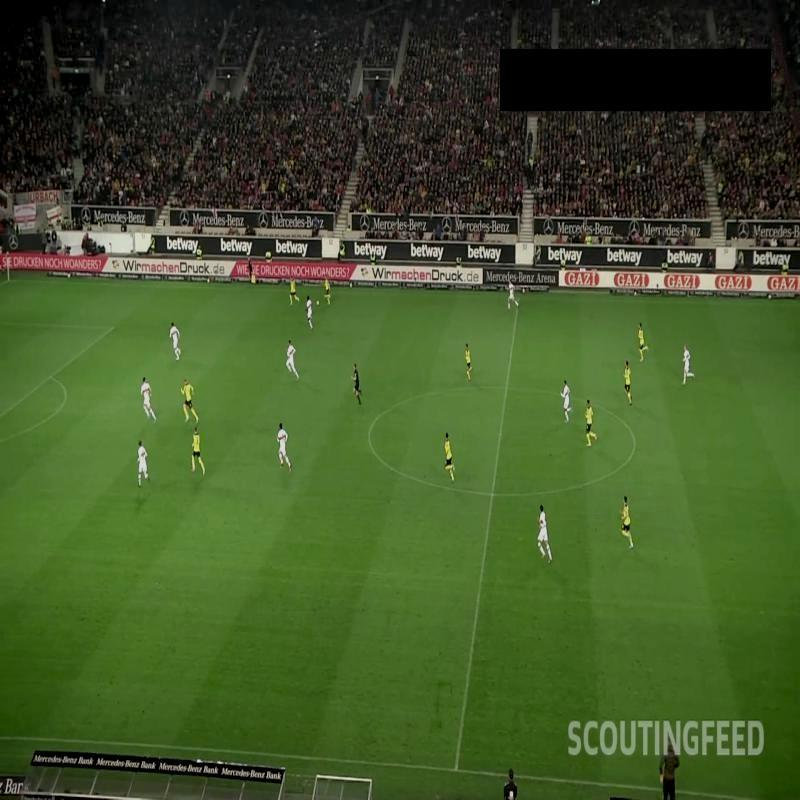1: (1, 274, 15, 288)
10: (44, 370, 58, 384)
13: (511, 291, 525, 305)
14: (498, 380, 516, 396)
15: (485, 486, 502, 503)
16: (446, 760, 465, 780)
9: (106, 320, 120, 334)
c: (624, 436, 642, 454)
